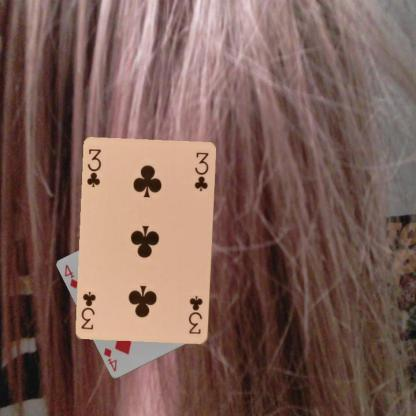3c: (186, 293, 204, 336), (84, 146, 102, 189)
4d: (62, 262, 80, 290)
